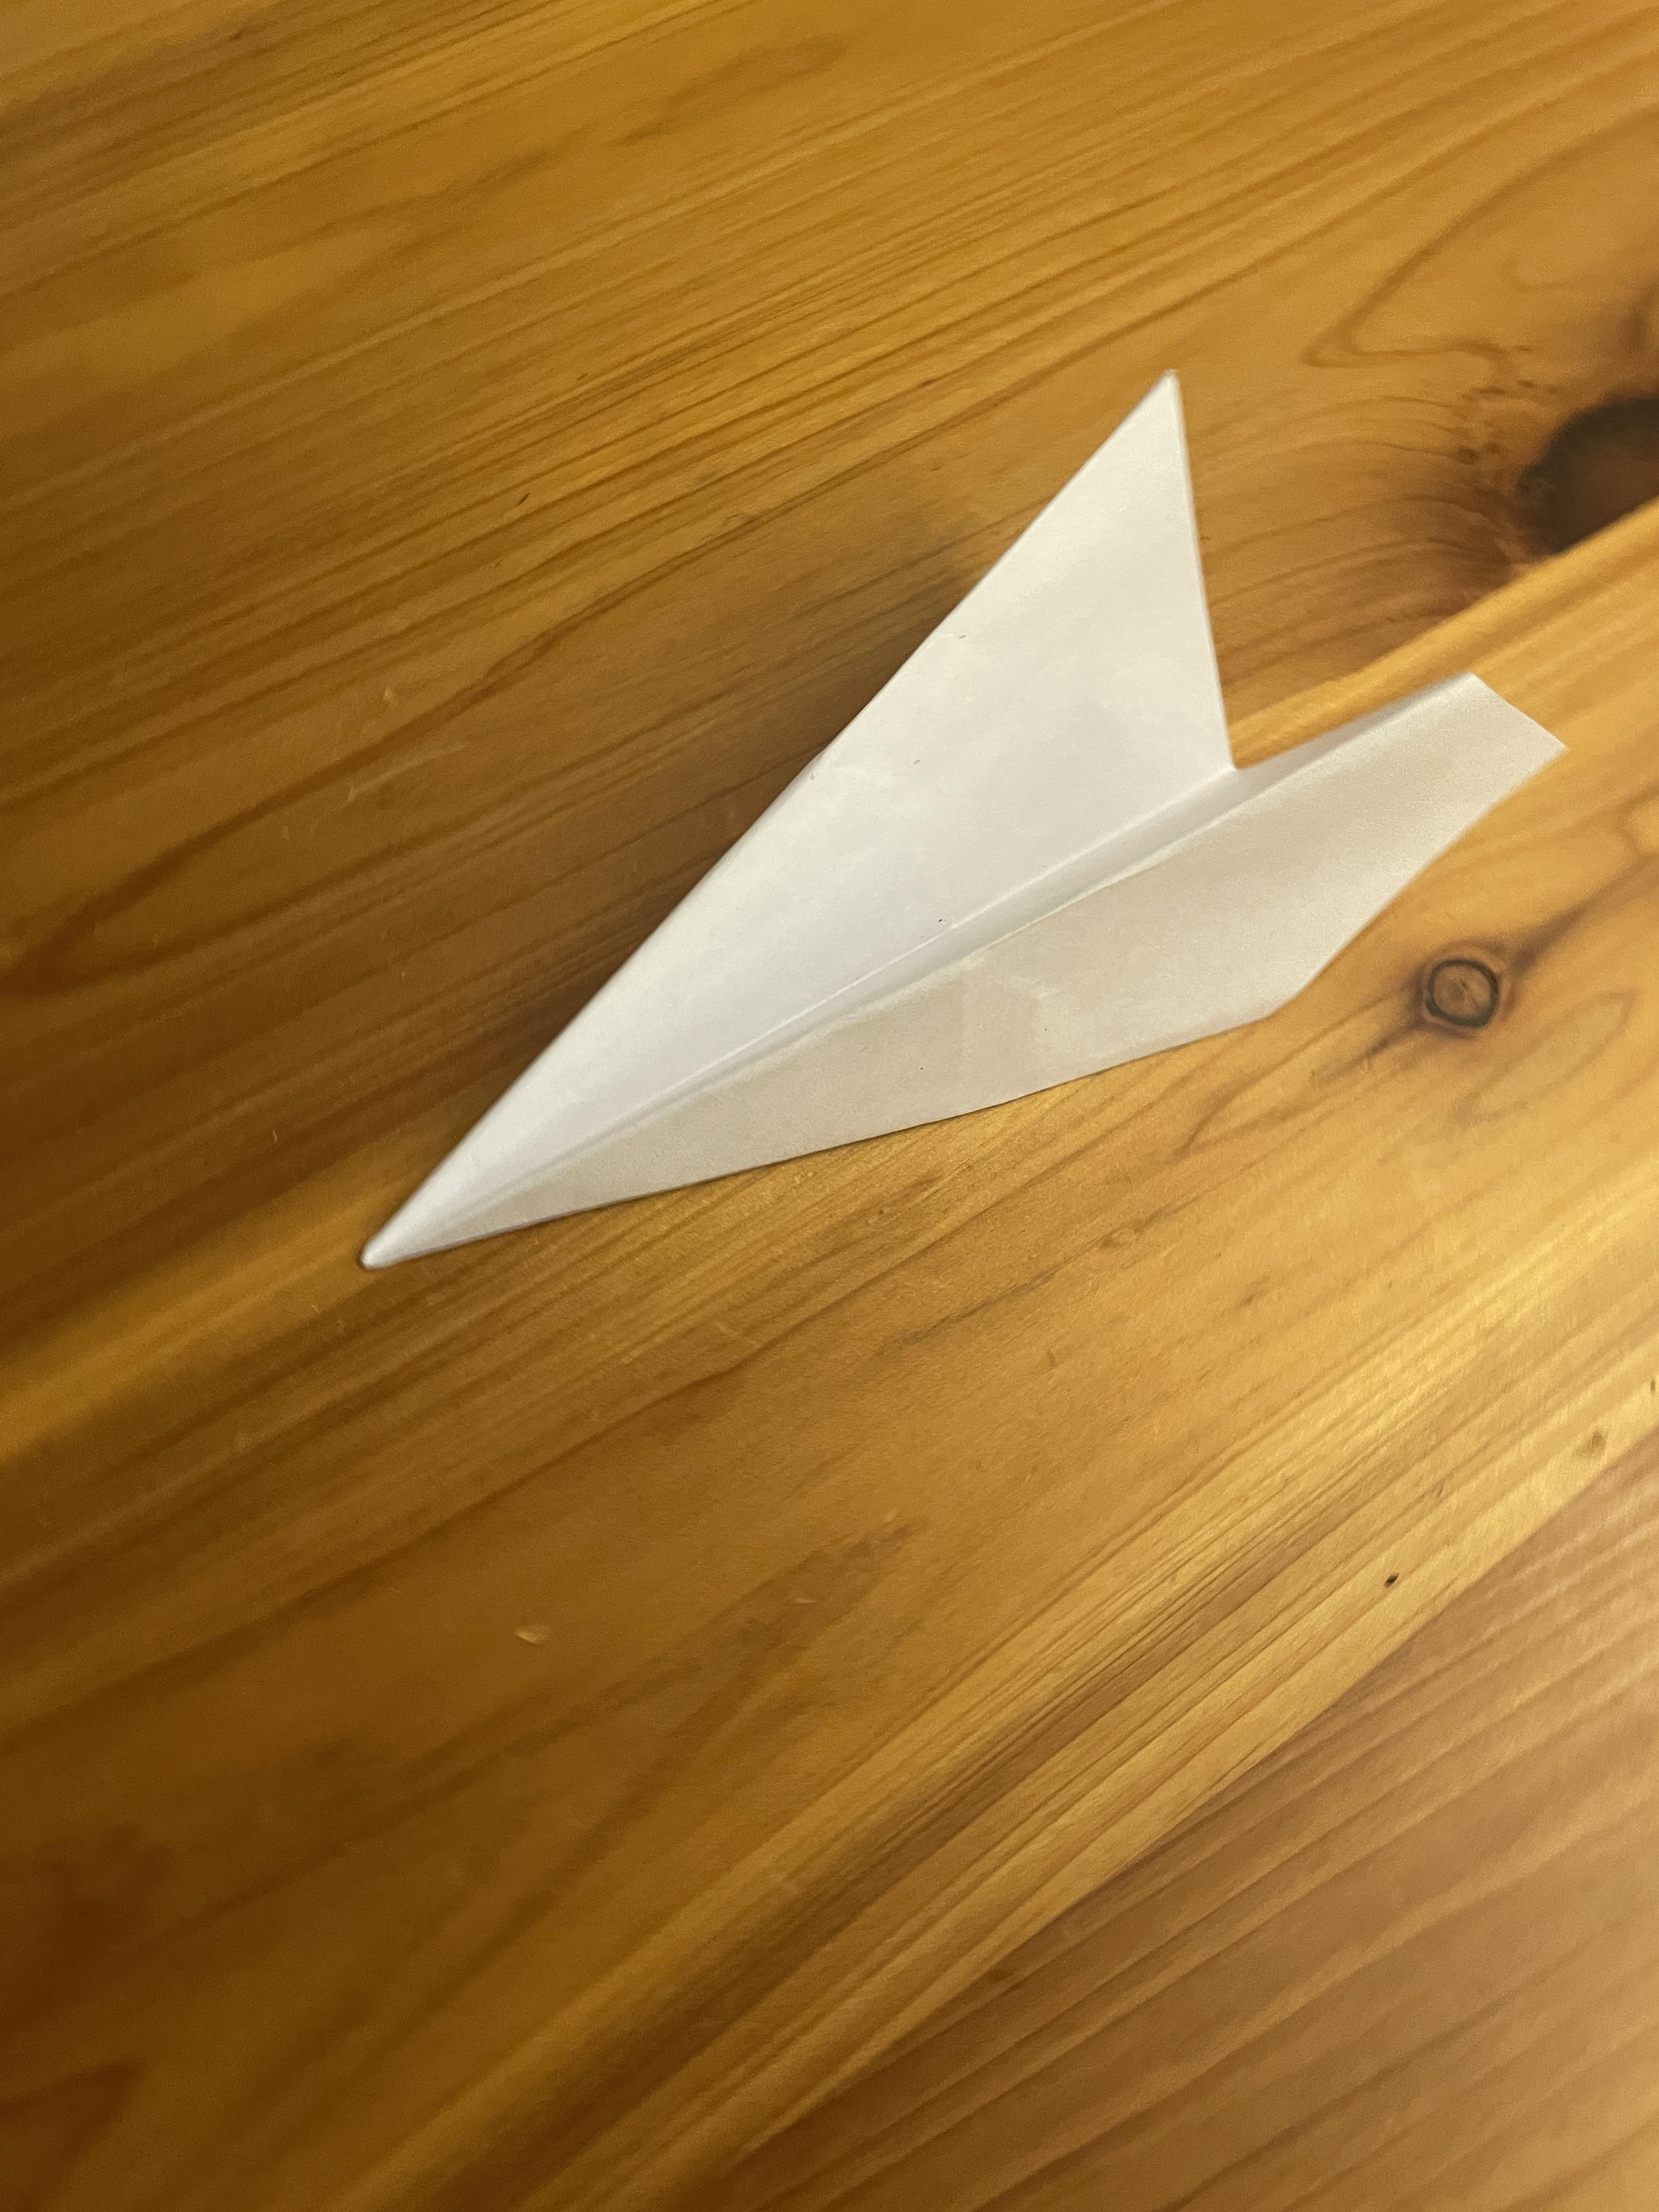shape_3: (345, 221, 1659, 1472)
